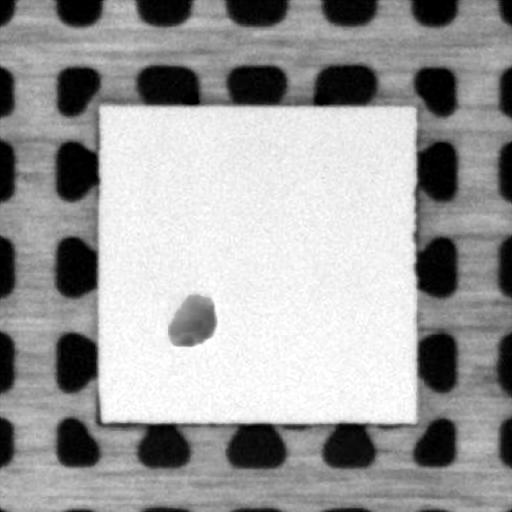DIE_INK: (157, 283, 224, 356)
